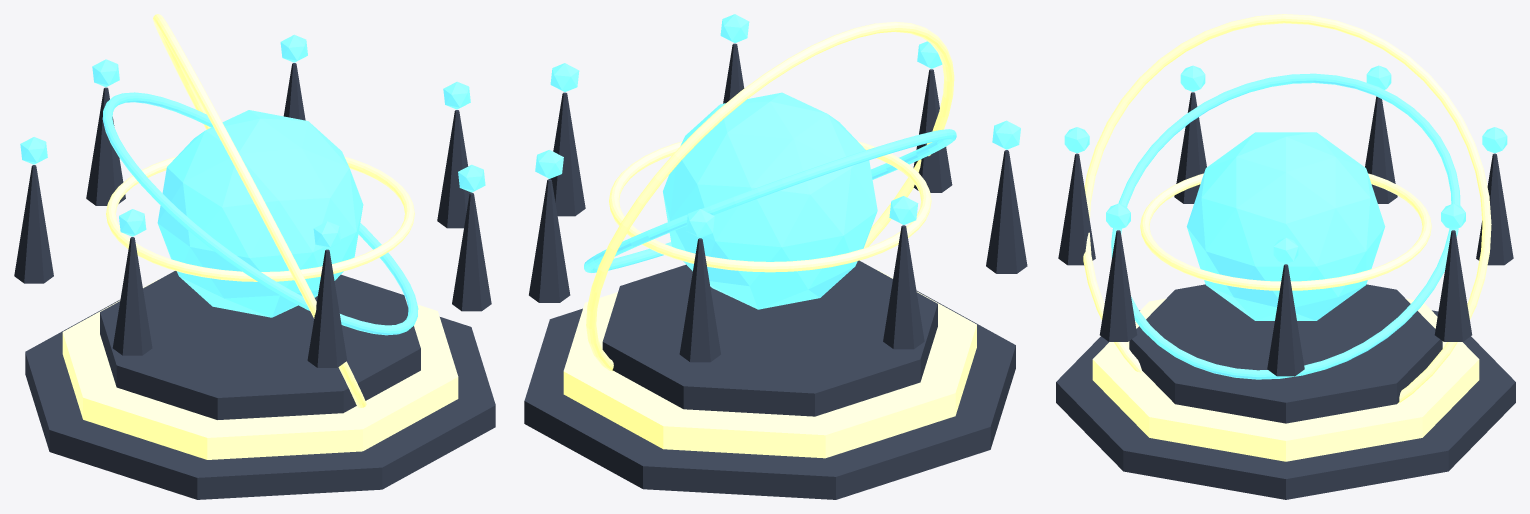
File: gpu-blender-v46.glb
The picture shows the model from 3 angles, left to right: view 1: azimuth 30°, elevation 25°; view 2: azimuth 150°, elevation 25°; view 3: azimuth 270°, elevation 25°; orthographic projection. The views are drawn at different scales.
Parts seen in each view (by area): view 1: Cylinder.002, SovereignCore_web-security-guard, Cylinder, Cylinder.001, Torus.001, Torus, Torus.002, Cone.006, Cone.003, Cone.004, Cone.005, Cone (+9 smaller); view 2: Cylinder.002, SovereignCore_web-security-guard, Cylinder, Cylinder.001, Torus.002, Torus.001, Torus, Cone.003, Cone.002, Cone.004, Cone.001, Cone (+8 smaller); view 3: SovereignCore_web-security-guard, Cylinder.002, Cylinder, Cylinder.001, Torus.002, Torus.001, Torus, Cone, Cone.001, Cone.006, Cone.005, Cone.002 (+8 smaller).
Part boxes in pixels (bbox=[...]): Cylinder.002: bbox=[100, 271, 420, 419]; SovereignCore_web-security-guard: bbox=[157, 110, 363, 317]; Cylinder: bbox=[25, 299, 495, 499]; Cylinder.001: bbox=[62, 279, 458, 459]; Torus.001: bbox=[102, 92, 418, 335]; Torus: bbox=[106, 156, 414, 281]; Torus.002: bbox=[153, 14, 366, 407]; Cone.006: bbox=[452, 193, 491, 311]; Cone.003: bbox=[14, 165, 53, 283]; Cone.004: bbox=[112, 237, 152, 355]; Cone.005: bbox=[307, 249, 347, 367]; Cone: bbox=[437, 110, 471, 228]; Cylinder.002: bbox=[602, 260, 937, 416]; SovereignCore_web-security-guard: bbox=[663, 92, 877, 309]; Cylinder: bbox=[524, 290, 1015, 499]; Cylinder.001: bbox=[563, 269, 976, 458]; Torus.002: bbox=[586, 21, 954, 371]; Torus.001: bbox=[584, 129, 956, 272]; Torus: bbox=[609, 141, 931, 272]; Cone.003: bbox=[883, 225, 924, 349]; Cone.002: bbox=[679, 238, 720, 362]; Cone.004: bbox=[986, 150, 1027, 273]; Cone.001: bbox=[529, 179, 570, 302]; Cone: bbox=[549, 92, 585, 216]; SovereignCore_web-security-guard: bbox=[1186, 132, 1385, 320]; Cylinder.002: bbox=[1129, 284, 1442, 423]; Cylinder: bbox=[1056, 310, 1515, 499]; Cylinder.001: bbox=[1092, 298, 1479, 461]; Torus.002: bbox=[1083, 14, 1491, 403]; Torus.001: bbox=[1111, 73, 1460, 379]; Torus: bbox=[1140, 173, 1431, 290]; Cone: bbox=[1267, 264, 1304, 376]; Cone.001: bbox=[1434, 230, 1472, 341]; Cone.006: bbox=[1099, 230, 1137, 341]; Cone.005: bbox=[1058, 153, 1095, 265]; Cone.002: bbox=[1476, 153, 1513, 265].
Bounding box in the file's own units: 4.41 × 3.72 × 4.4.
